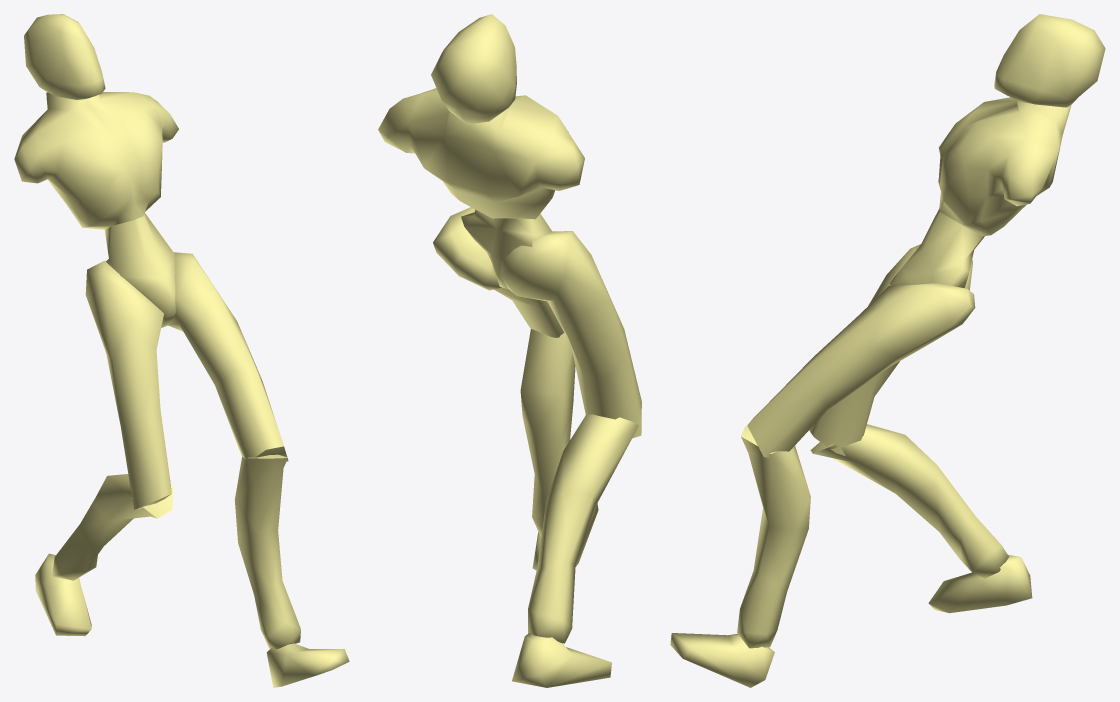
File: filth23.obj
3 views of the same model, side by side, from view 1: azimuth 30°, elevation 25°; view 2: azimuth 150°, elevation 25°; view 3: azimuth 270°, elevation 25° (orthographic). The views are drawn at different scales.
Parts seen in each view (by area): view 1: Melee_Husk; view 2: Melee_Husk; view 3: Melee_Husk.
Part boxes in pixels (x1=…): Melee_Husk: x1=14, y1=14, x2=349, y2=687; Melee_Husk: x1=378, y1=14, x2=641, y2=687; Melee_Husk: x1=670, y1=14, x2=1105, y2=687.
Bounding box in the file's own units: 22.87 × 72.73 × 45.62.
